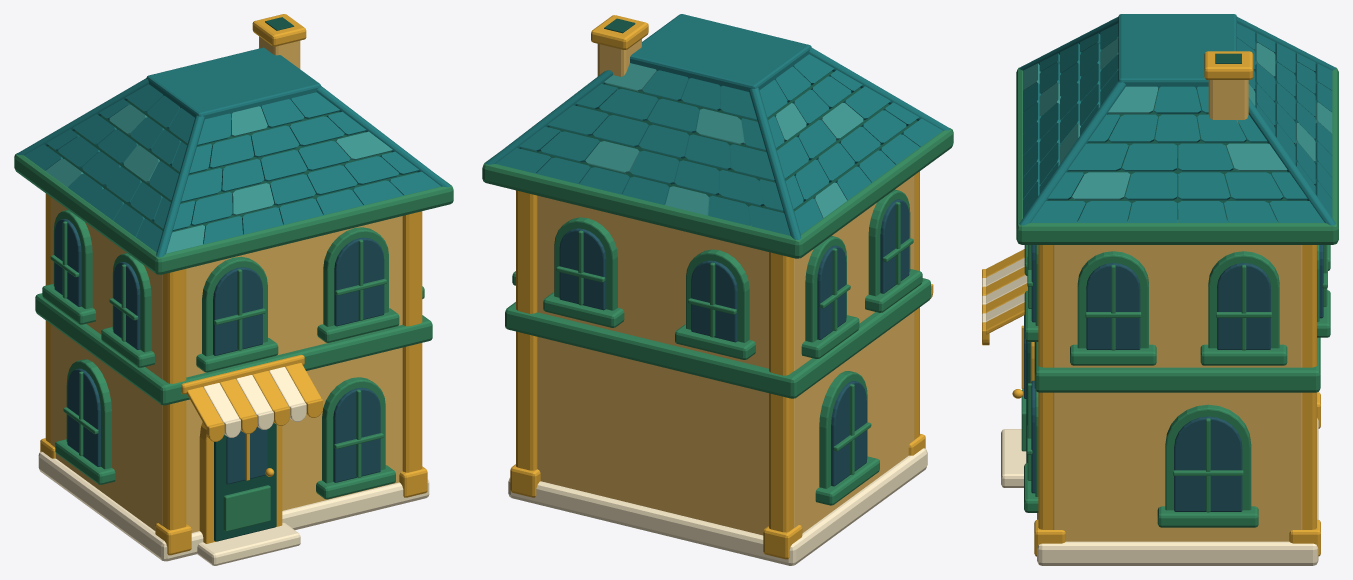
The model's file is house-yellow.glb.
3 renders of one model, left to right at view 1: azimuth 30°, elevation 25°; view 2: azimuth 150°, elevation 25°; view 3: azimuth 270°, elevation 25°, orthographic. The views are drawn at different scales.
Parts seen in each view (by area): view 1: Boulevard_teal, Boulevard_green, Boulevard_yellow, Boulevard_gold, Boulevard_glass, Boulevard_cream, Boulevard_dark_green, Boulevard_teal_light; view 2: Boulevard_yellow, Boulevard_teal, Boulevard_green, Boulevard_gold, Boulevard_glass, Boulevard_cream, Boulevard_teal_light, Boulevard_dark_green; view 3: Boulevard_teal, Boulevard_yellow, Boulevard_green, Boulevard_glass, Boulevard_gold, Boulevard_cream, Boulevard_teal_light, Boulevard_dark_green.
Boxes of the visible parts, left/top/right/bottom form: Boulevard_teal: left=17, top=47, right=450, bottom=257; Boulevard_green: left=14, top=153, right=453, bottom=531; Boulevard_yellow: left=50, top=36, right=402, bottom=532; Boulevard_gold: left=40, top=14, right=427, bottom=555; Boulevard_glass: left=54, top=219, right=384, bottom=484; Boulevard_cream: left=38, top=367, right=429, bottom=565; Boulevard_dark_green: left=47, top=17, right=417, bottom=541; Boulevard_teal_light: left=45, top=105, right=392, bottom=253; Boulevard_yellow: left=537, top=39, right=914, bottom=535; Boulevard_teal: left=485, top=14, right=949, bottom=239; Boulevard_green: left=482, top=128, right=953, bottom=505; Boulevard_gold: left=510, top=15, right=933, bottom=559; Boulevard_glass: left=559, top=199, right=909, bottom=486; Boulevard_cream: left=508, top=448, right=927, bottom=565; Boulevard_teal_light: left=585, top=63, right=863, bottom=217; Boulevard_dark_green: left=521, top=18, right=917, bottom=212; Boulevard_teal: left=1019, top=14, right=1335, bottom=225; Boulevard_yellow: left=1053, top=80, right=1302, bottom=541; Boulevard_green: left=1016, top=67, right=1338, bottom=527; Boulevard_glass: left=1024, top=245, right=1323, bottom=511; Boulevard_gold: left=982, top=51, right=1320, bottom=556; Boulevard_cream: left=982, top=258, right=1318, bottom=565; Boulevard_teal_light: left=1023, top=38, right=1332, bottom=200; Boulevard_dark_green: left=1026, top=53, right=1315, bottom=463.
Size of the model in its own units: 3.74 by 5.13 by 3.5.
